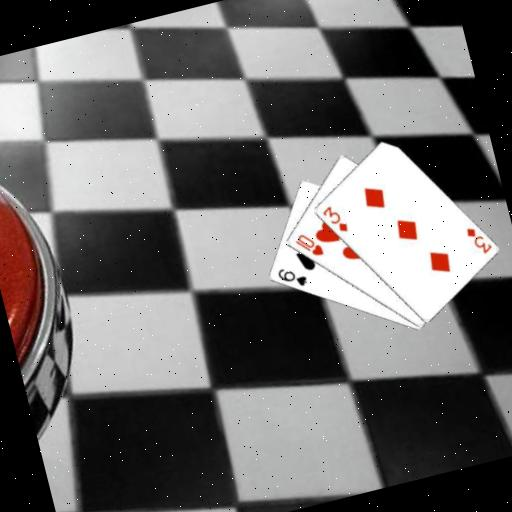10H: (291, 228, 326, 263)
3D: (318, 199, 351, 238), (462, 220, 495, 259)
6S: (273, 261, 310, 294)
